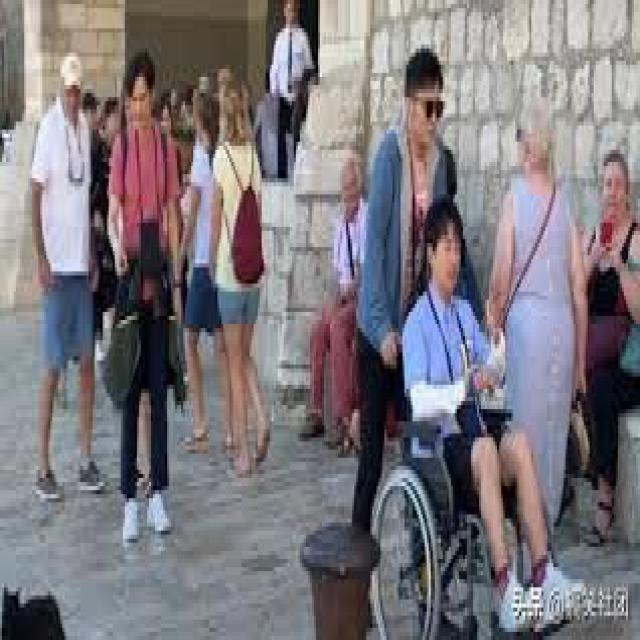wheelchairs: (368, 324, 564, 636)
